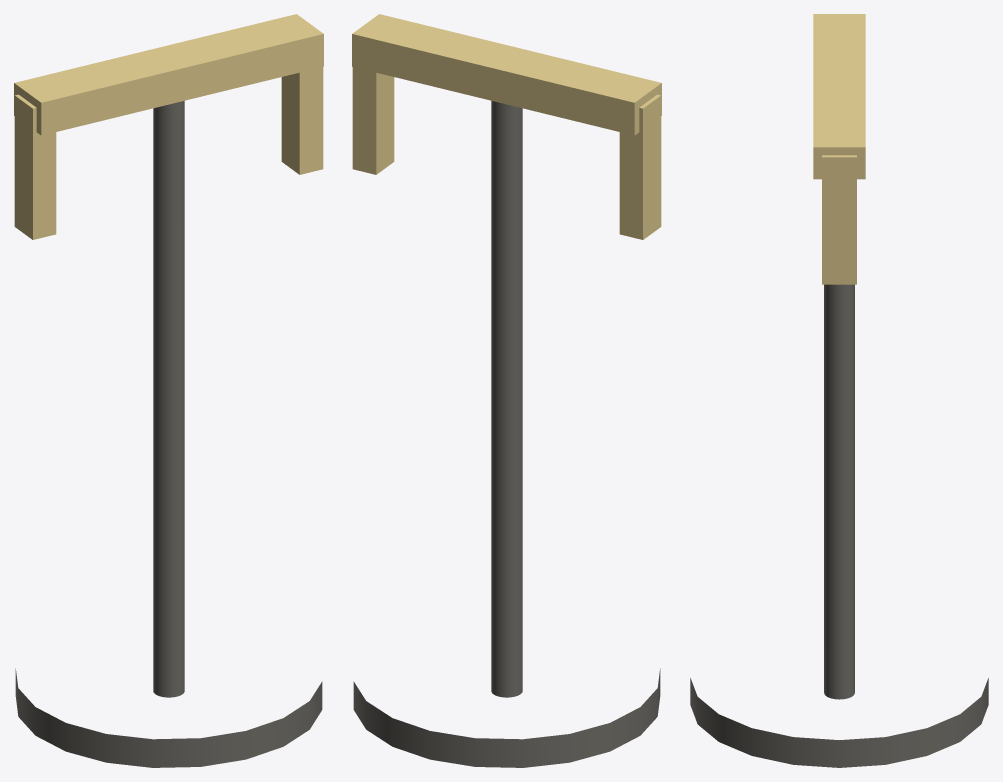
File: halo-lamp.glb
The picture shows the model from 3 angles, left to right: view 1: azimuth 30°, elevation 25°; view 2: azimuth 150°, elevation 25°; view 3: azimuth 270°, elevation 25°; orthographic projection. The views are drawn at different scales.
Size of the model in its own units: 0.74 by 1.57 by 0.68.
